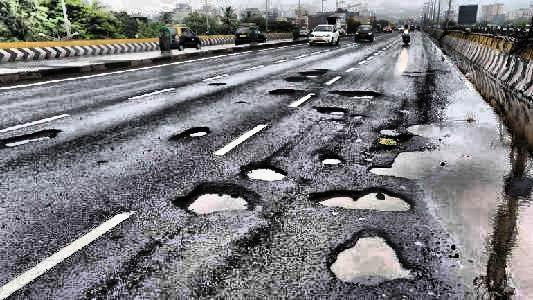pothole: (326, 227, 420, 283), (308, 185, 415, 212), (174, 181, 259, 214), (367, 147, 432, 177), (1, 126, 60, 147), (241, 161, 287, 181), (284, 65, 329, 83), (375, 129, 413, 147), (332, 88, 380, 98), (182, 125, 209, 138), (268, 86, 295, 96), (320, 106, 348, 115), (320, 154, 344, 164), (210, 82, 225, 87)
